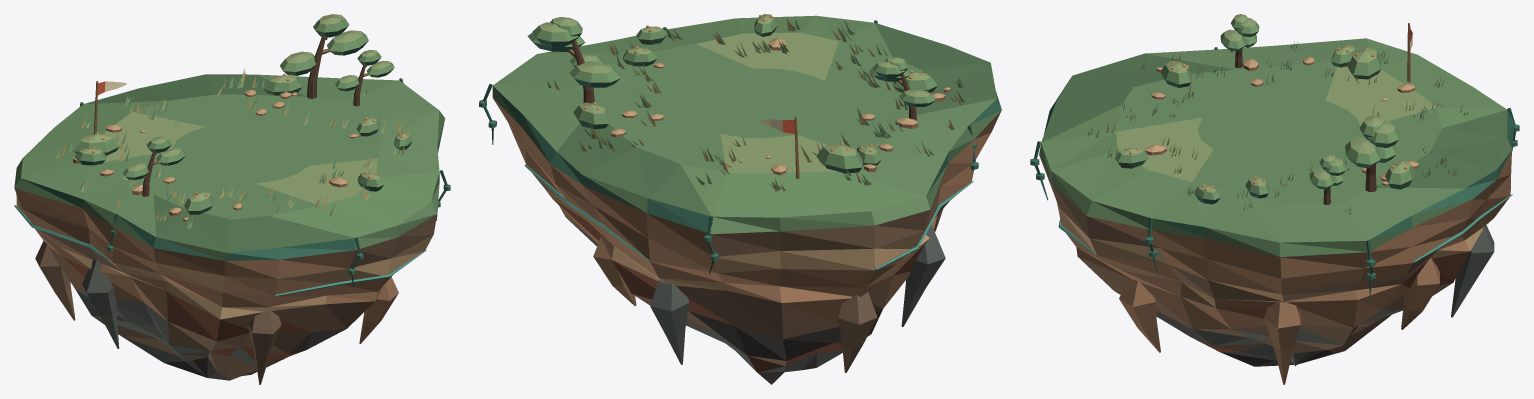
Rendered from island.glb.
The picture shows the model from 3 angles, left to right: view 1: azimuth 30°, elevation 25°; view 2: azimuth 150°, elevation 25°; view 3: azimuth 270°, elevation 25°; orthographic projection. The views are drawn at different scales.
Visible parts, largest first — view 1: WindcutBluff, Clifftop; view 2: WindcutBluff, Clifftop; view 3: WindcutBluff, Clifftop.
Part boxes in pixels (left/top/right/bottom): WindcutBluff: left=14, top=74, right=450, bottom=384; Clifftop: left=56, top=14, right=412, bottom=228; WindcutBluff: left=479, top=15, right=1001, bottom=384; Clifftop: left=527, top=14, right=964, bottom=191; WindcutBluff: left=1030, top=38, right=1519, bottom=384; Clifftop: left=1088, top=14, right=1468, bottom=214.
Bounding box in the file's own units: 12.05 × 8.65 × 11.52.
